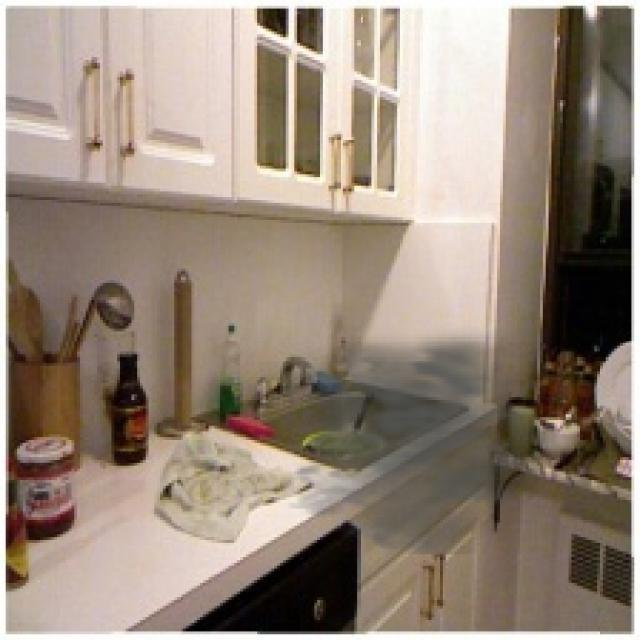Smoke: (260, 323, 540, 554)
